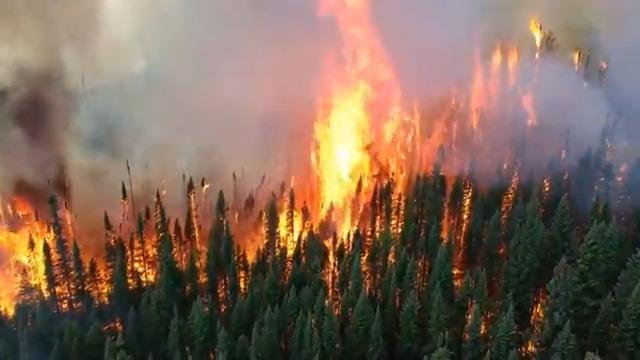fire: (274, 12, 424, 271), (66, 211, 268, 289), (0, 204, 55, 296), (452, 186, 475, 292), (519, 294, 548, 355)
smoke: (0, 0, 272, 195), (441, 0, 640, 189)
